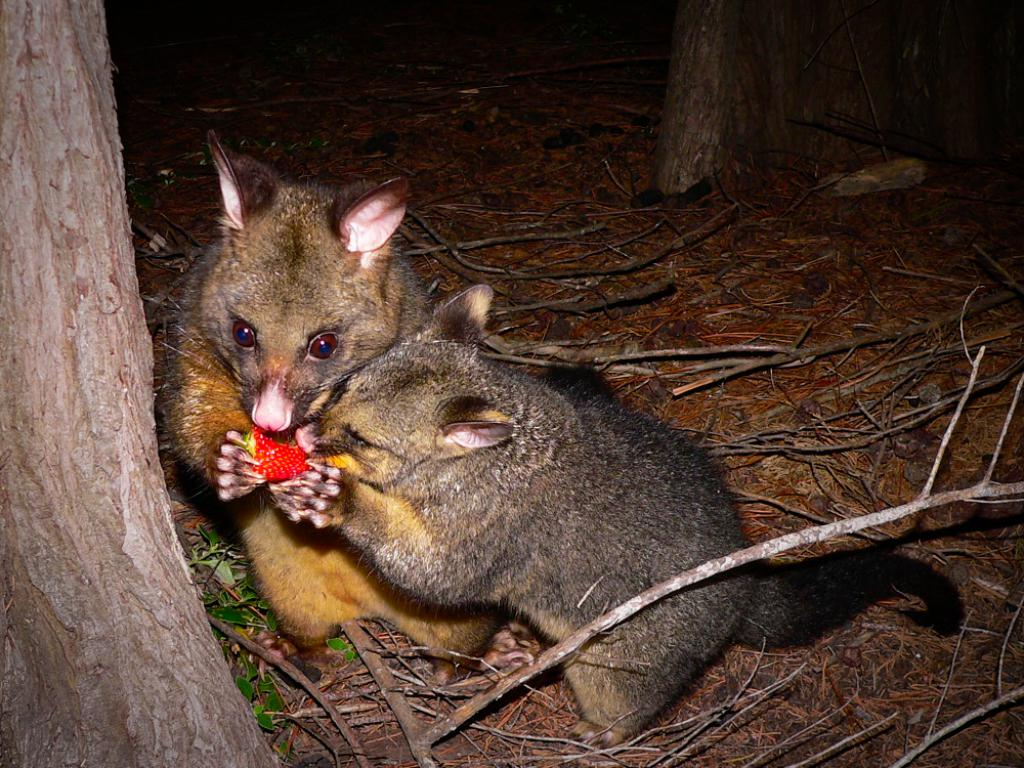Tree: (0, 0, 281, 767)
